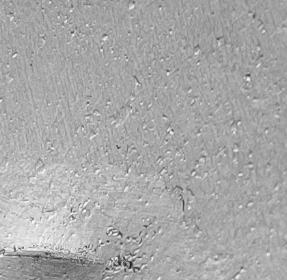dent: (1, 1, 287, 280)
